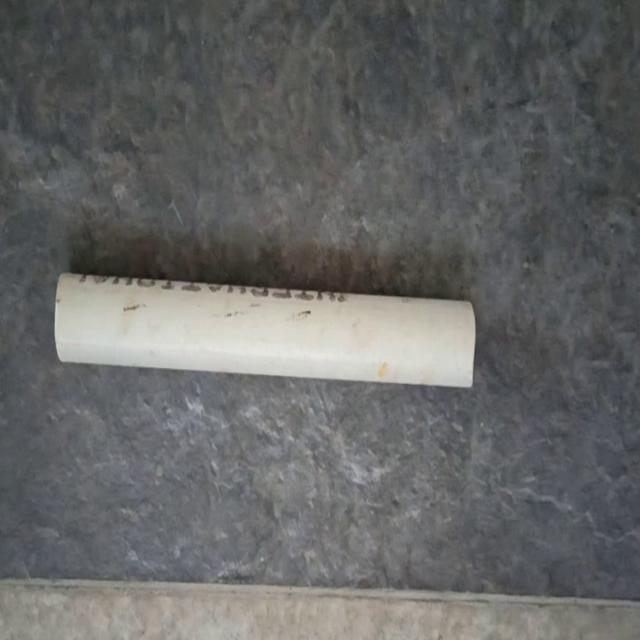Cube: (54, 270, 476, 390)
